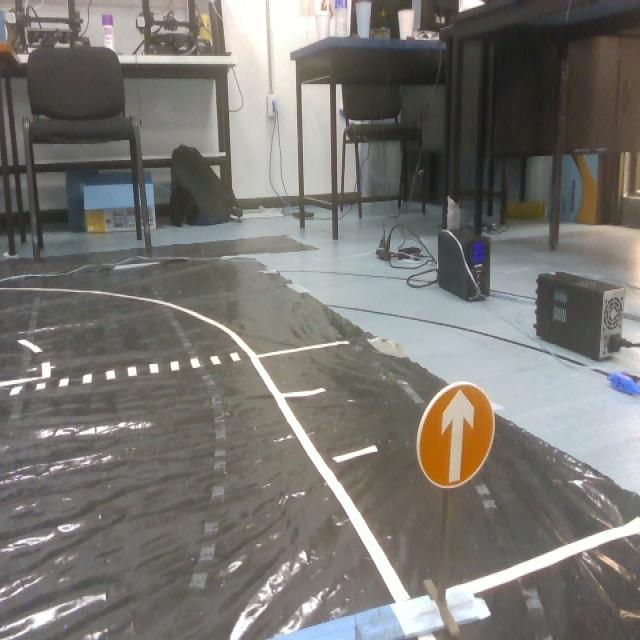right_turn: (416, 380, 492, 488)
